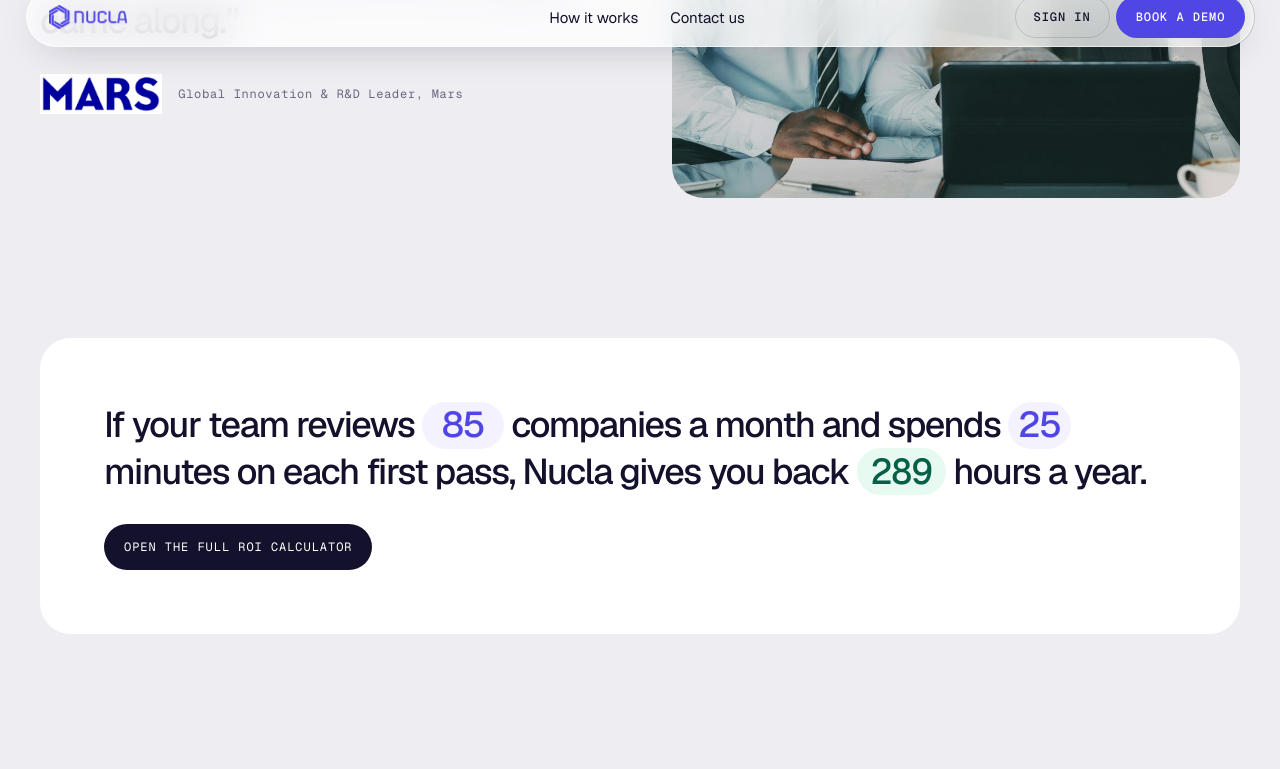
Test: the home ROI sentence › updates the hours from the visitor's numbers
(page scrolled)
Replace the text in the field named "Companies per month" with "1a00". click: (463, 426)
box: [422,402,504,449]
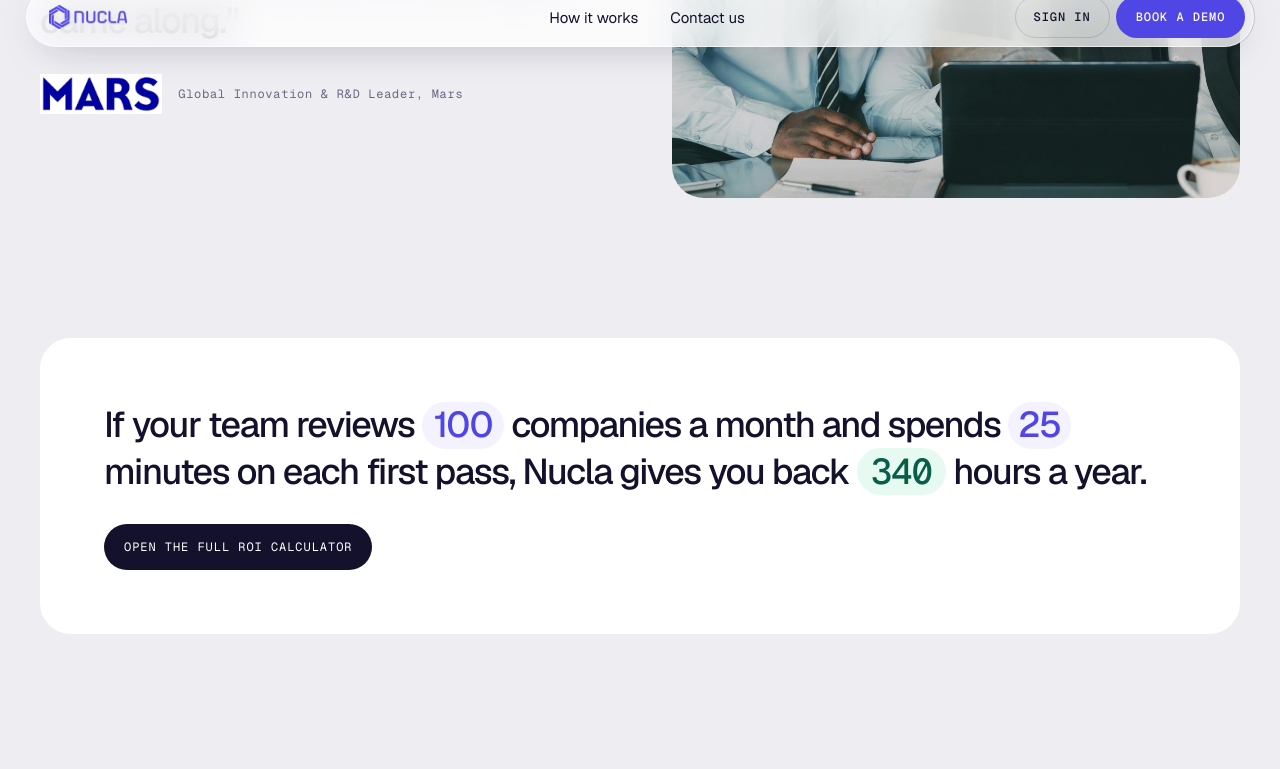
expect the field named "Companies per month" holds "100": met, box [422,402,504,449]
expect the text "340" is shown: met, box [857,448,946,495]
